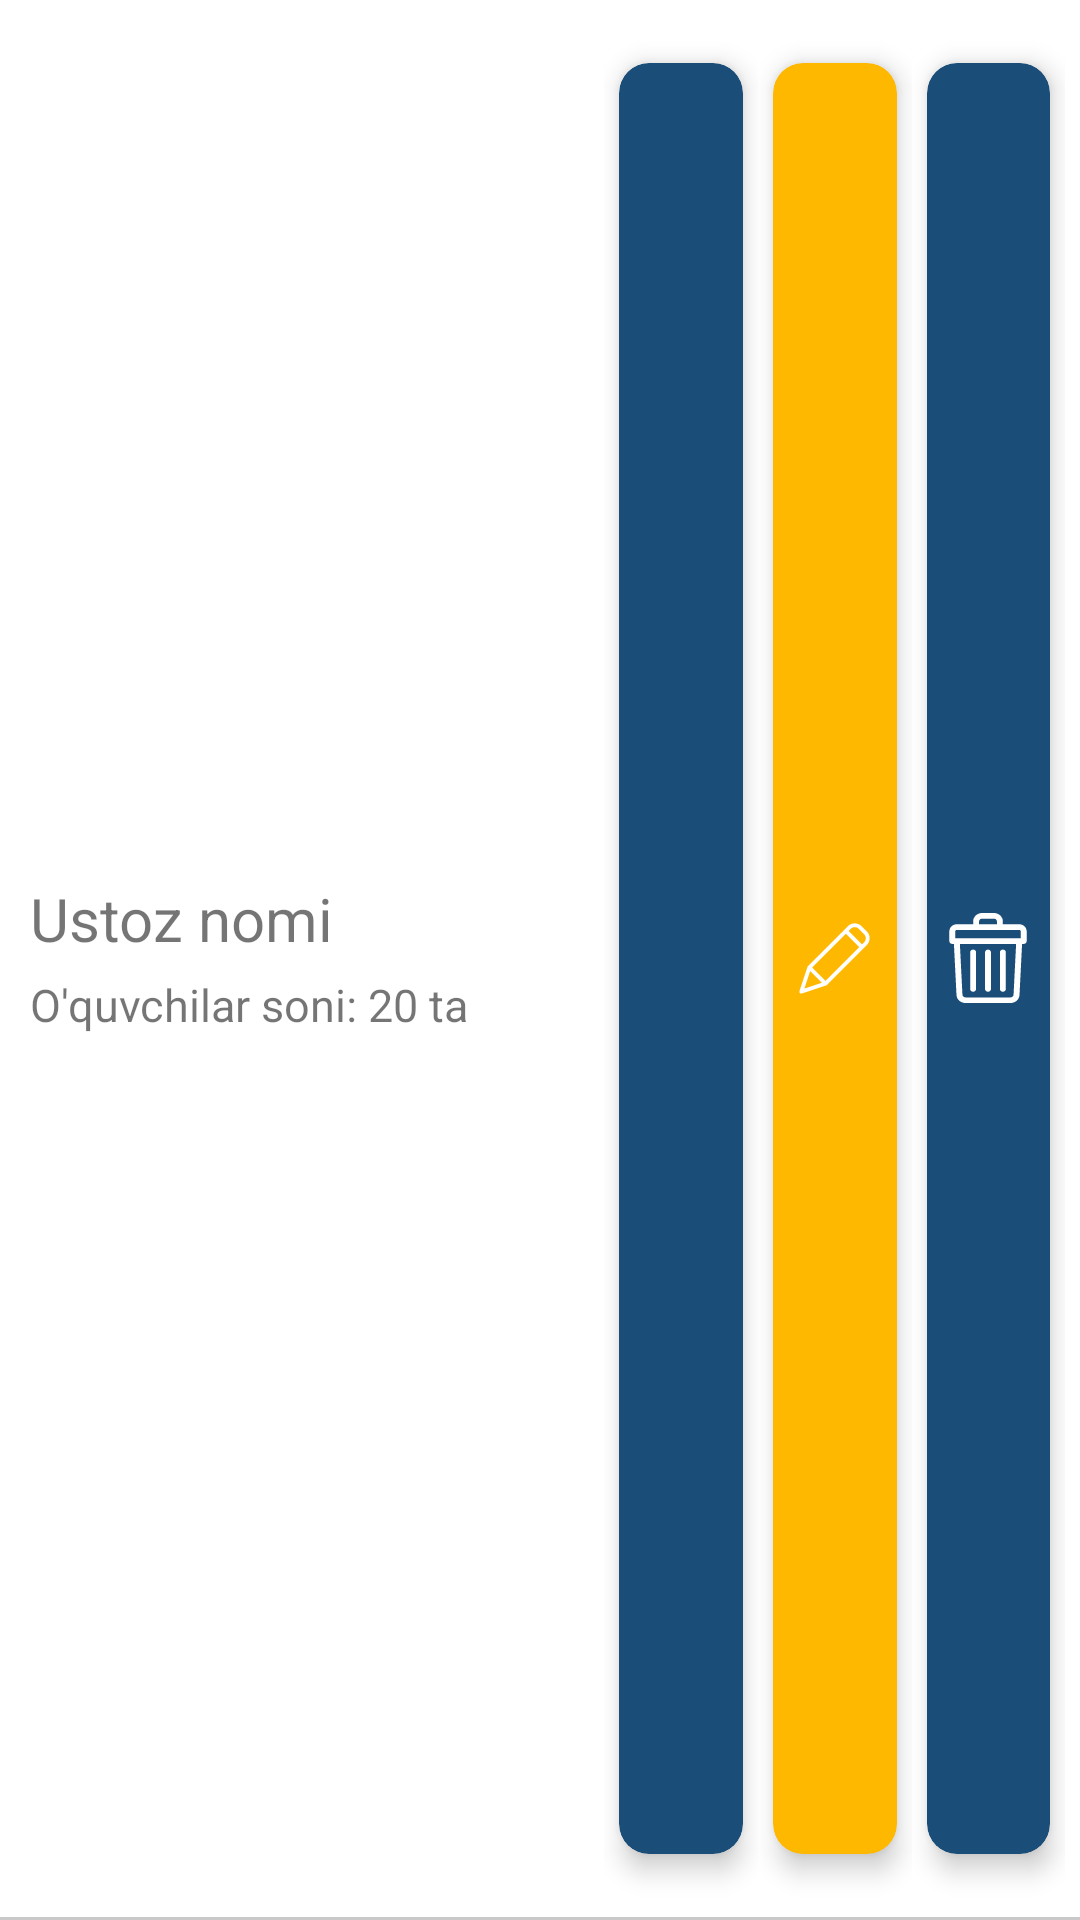

Point at icon controls on the screen. Image size 1080 x 1920, points as [x,y].
ochirish: [988,958]
qalam: [834,958]
